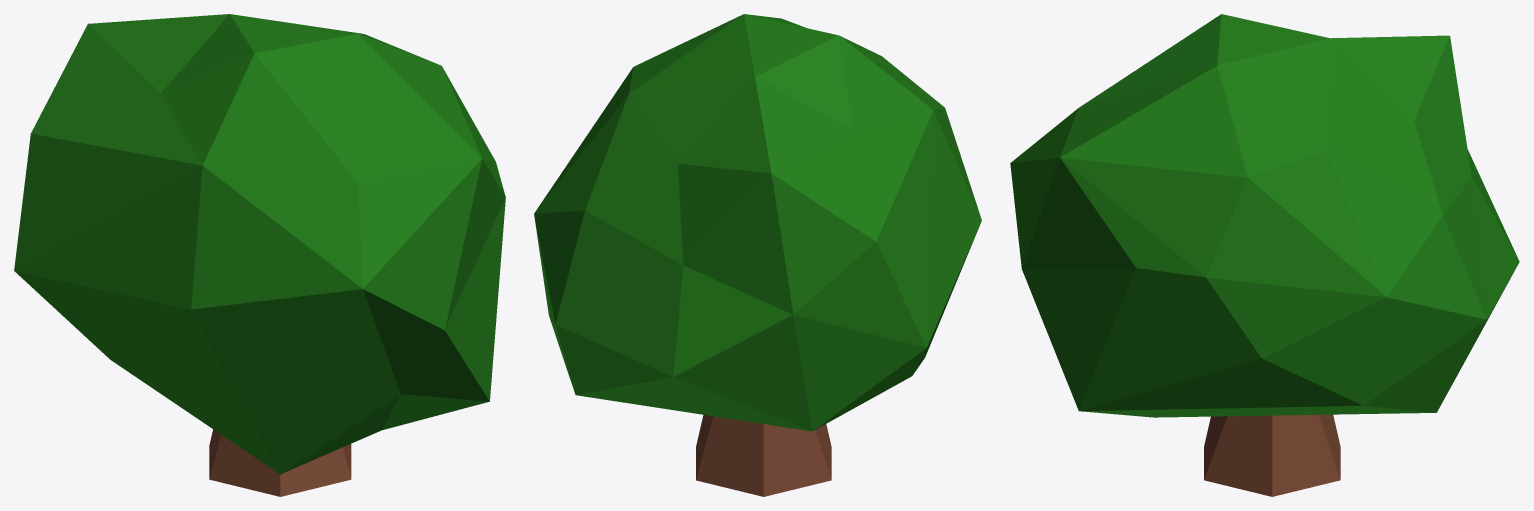
File: bush_1_summer_vc.fbx
3 renders of one model, left to right at view 1: azimuth 30°, elevation 25°; view 2: azimuth 150°, elevation 25°; view 3: azimuth 270°, elevation 25°, orthographic. The views are drawn at different scales.
Parts seen in each view (by area): view 1: bush_1_summer_vc; view 2: bush_1_summer_vc; view 3: bush_1_summer_vc.
Part boxes in pixels (x1,y1,x2,y2): bush_1_summer_vc: (14, 14, 505, 496); bush_1_summer_vc: (534, 14, 981, 496); bush_1_summer_vc: (1010, 14, 1519, 496).
Bounding box in the file's own units: 1.06 × 1.1 × 1.19.
